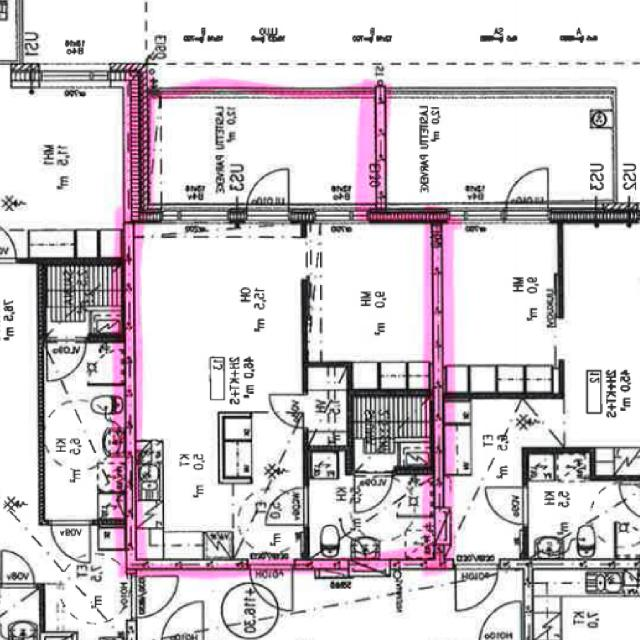door: (247, 165, 288, 222), (250, 561, 292, 611), (355, 471, 393, 513), (267, 488, 308, 524), (269, 394, 308, 428)
